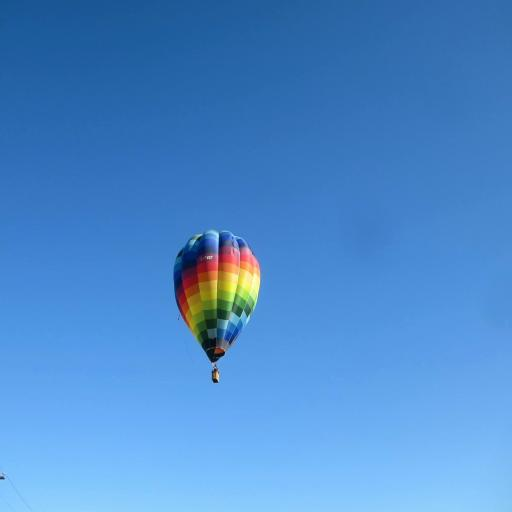hot air ballon: (172, 230, 261, 385)
